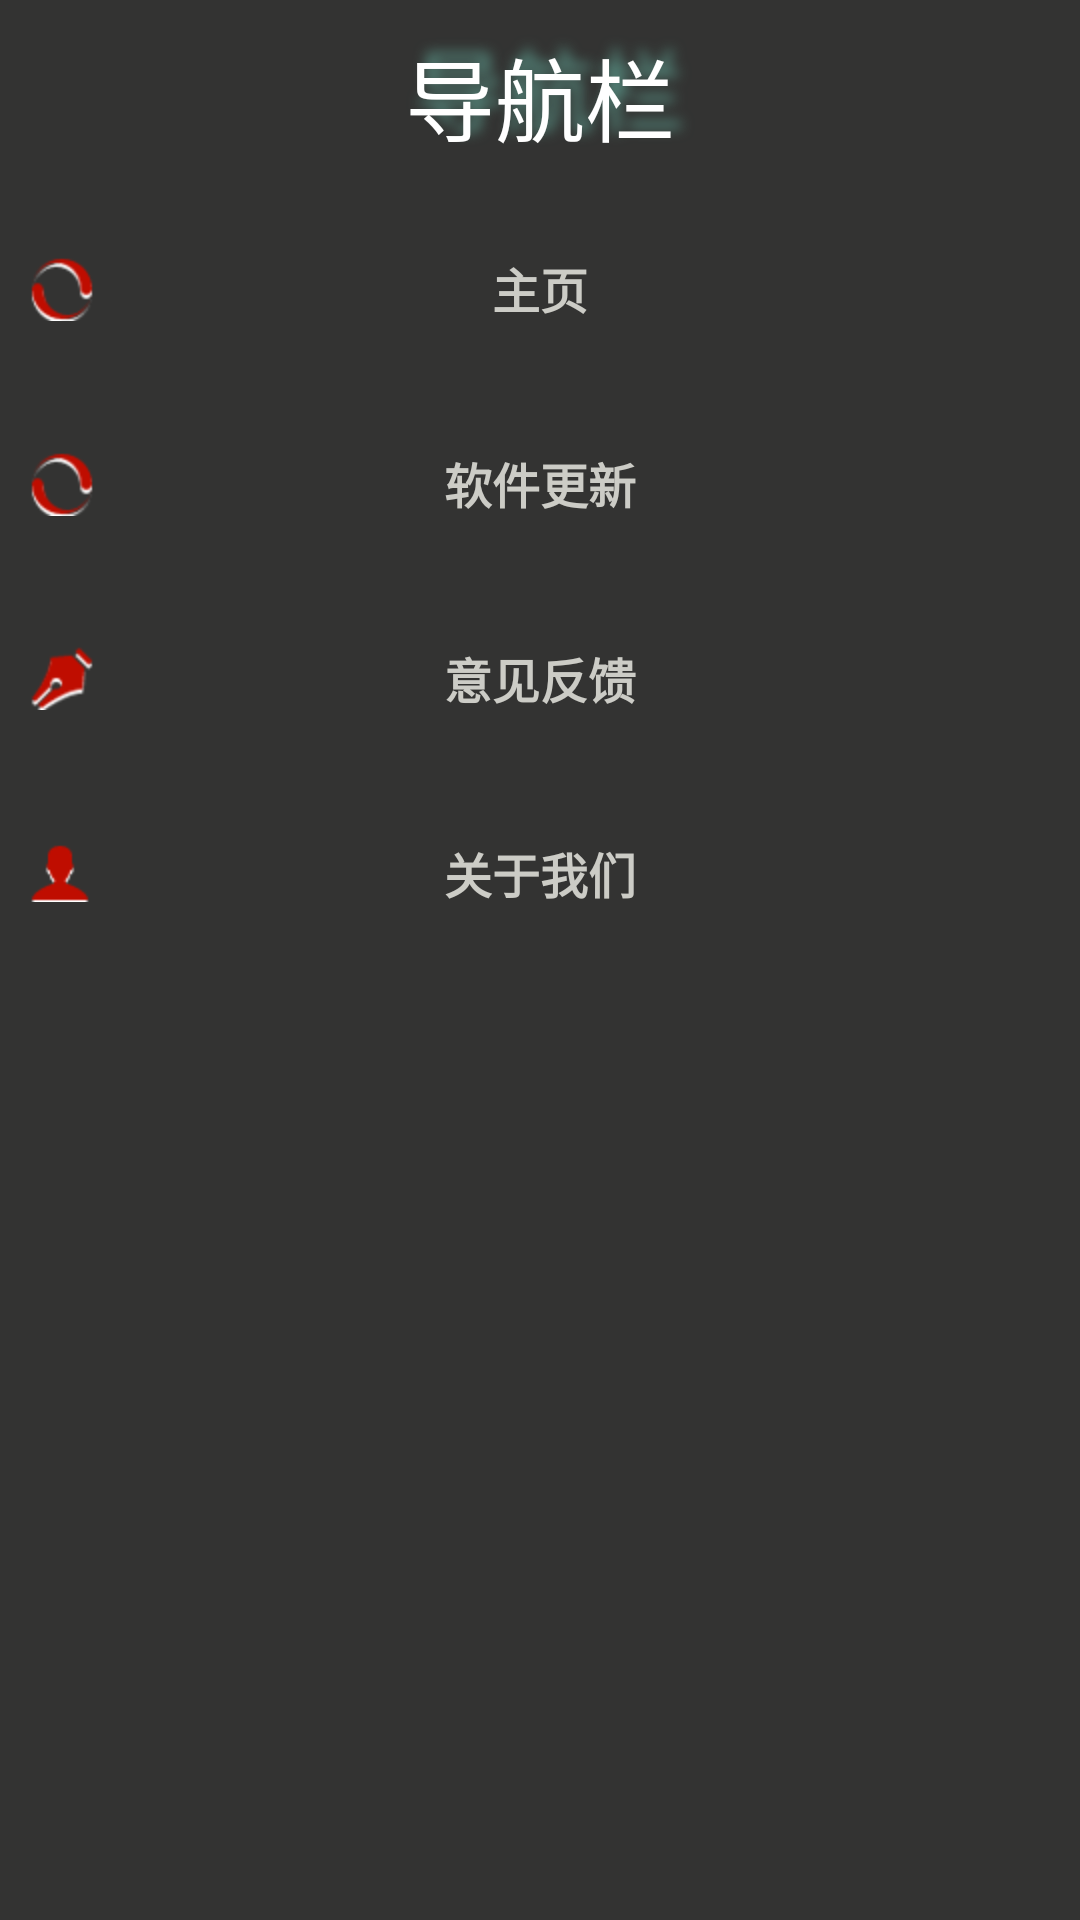

Point at icon controls on the screen. Image size 1080 × 1920, points as [x,y].
about: [60,873]
comment back: [62,679]
software update: [62,289], [62,484]
